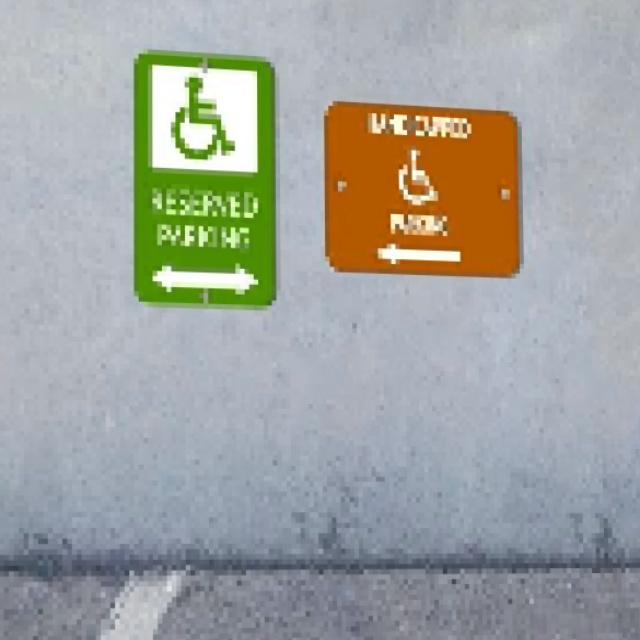ISA: (167, 70, 244, 168), (393, 140, 441, 211)
